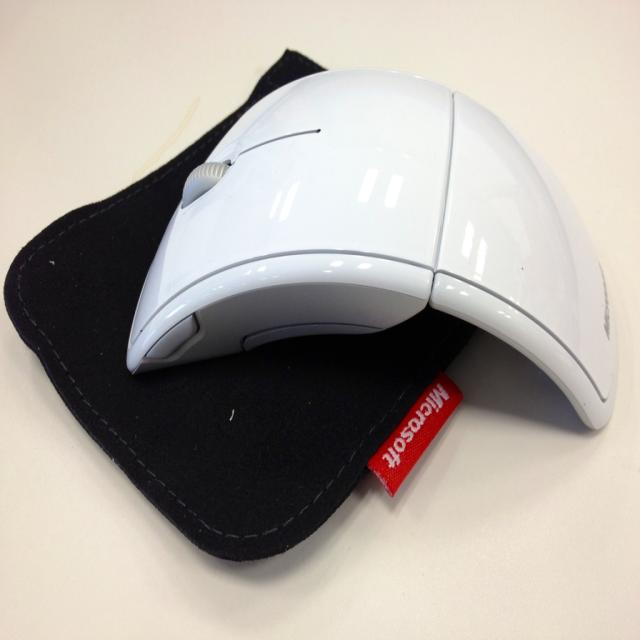Computer mouse: (128, 67, 616, 430)
